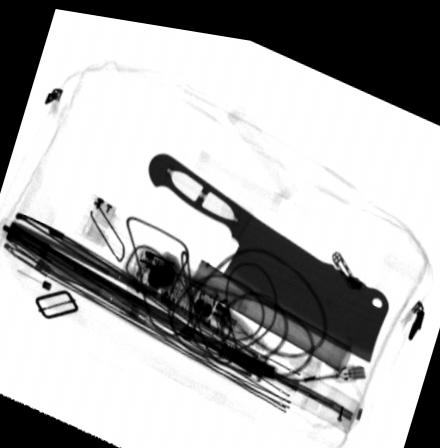Knife: (147, 147, 390, 351)
